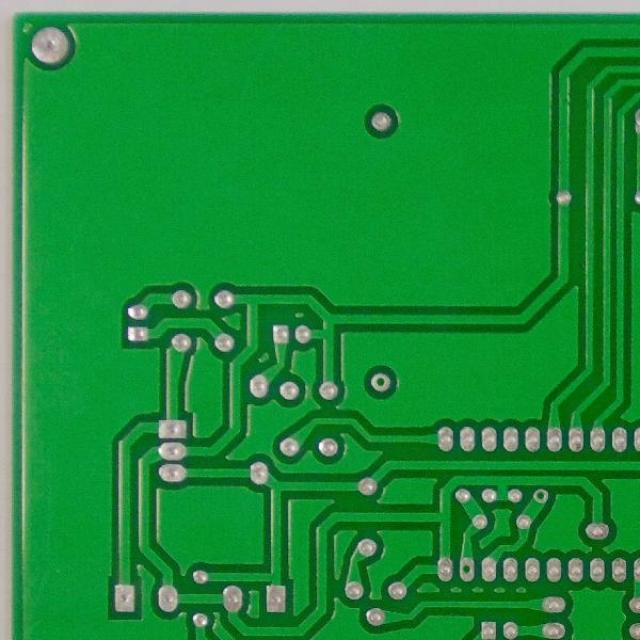missing_hole: (455, 559, 478, 580), (372, 372, 389, 391), (534, 486, 550, 506)
